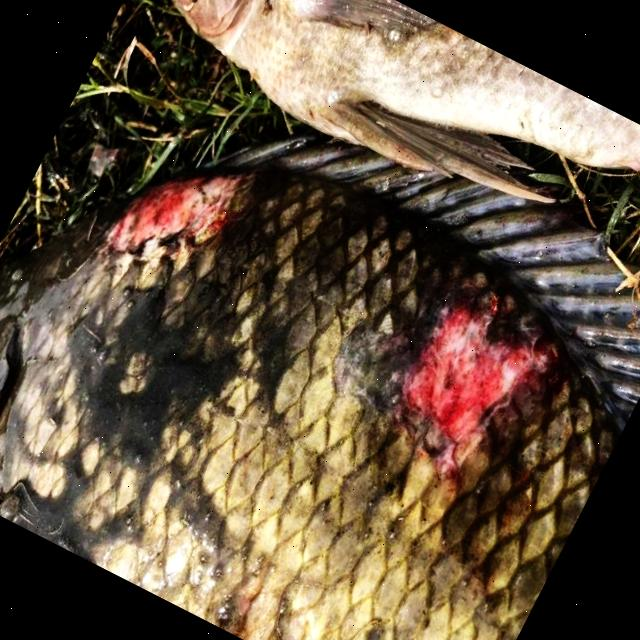Edwardsiella Ictaluri -Bacterial Red Disease-: (0, 136, 640, 640)
